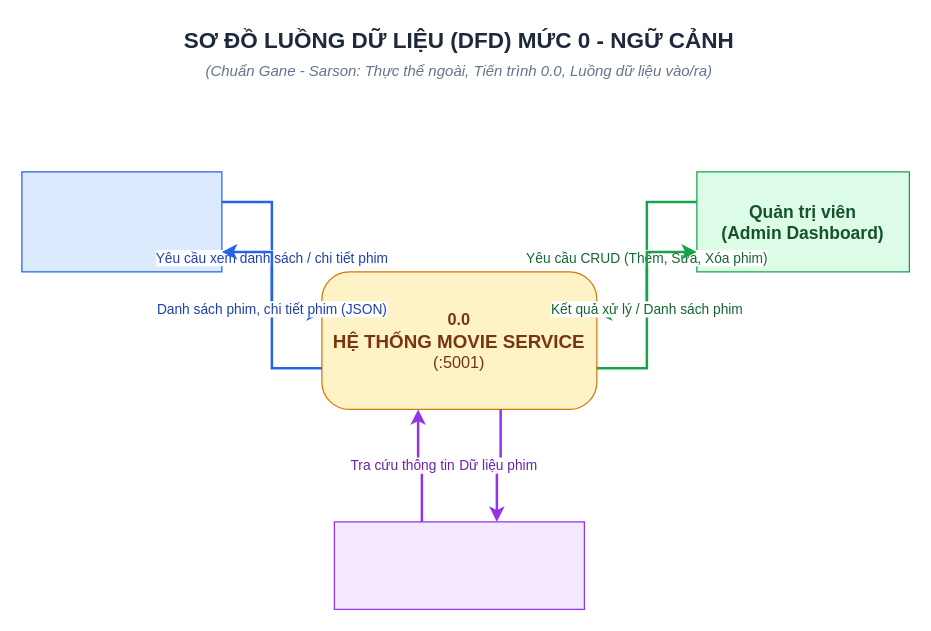
Image size: 931x631. Some labels were removed from this diagram. The box of each missing label's shape, as (x1, y1, x2, y2) in pixels:
Khách hàng (Client App): (21, 171, 222, 272)
Showtime / Booking Service (Các service nội bộ): (333, 521, 584, 609)
